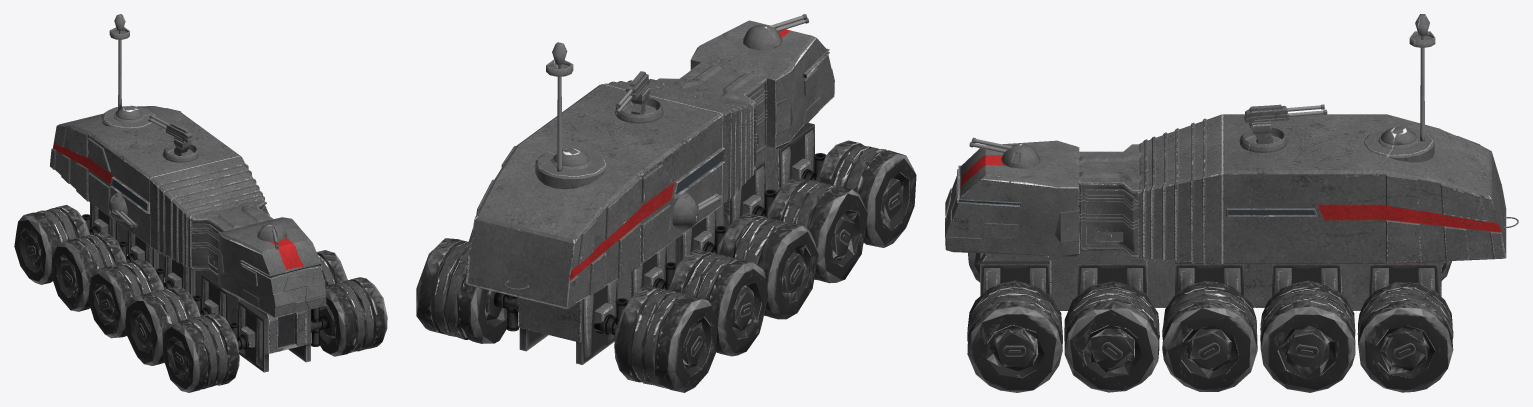
File: sw_juggernaut.glb
The picture shows the model from 3 angles, left to right: view 1: azimuth 30°, elevation 25°; view 2: azimuth 150°, elevation 25°; view 3: azimuth 270°, elevation 25°; orthographic projection. The views are drawn at different scales.
Visible parts, largest first — view 1: hull_mat_1, MainBody_MainBody_0, Cockpit_Cockpit_0, hull_mat_6, MiddleBase002_MiddleBase002_0, MiddleBase001_MiddleBase_0, Communication_Comminication_0, hull_mat_5, hull_mat_7, hull_mat_3, Communication002_Communication002_0, TurretBaseBig_TurretBigGun_0 (+3 smaller); view 2: hull_mat_1, MainBody_MainBody_0, Cockpit_Cockpit_0, hull_mat_6, MiddleBase001_MiddleBase_0, MiddleBase002_MiddleBase002_0, Communication_Comminication_0, hull_mat_7, hull_mat_5, hull_mat_3, Communication002_Communication002_0, TurretBaseBig_TurretBaseBig_0 (+3 smaller); view 3: MainBody_MainBody_0, hull_mat_1, Cockpit_Cockpit_0, hull_mat_6, MiddleBase001_MiddleBase_0, MiddleBase002_MiddleBase002_0, Communication_Comminication_0, hull_mat_2, TurretBaseBig_TurretBigGun_0, Communication002_Communication002_0, hull_mat_7, TurretBaseBig_TurretBaseBig_0 (+1 smaller).
Boxes of the visible parts, x1,y1,x2,y2 form: hull_mat_1: (14,205,387,392); MainBody_MainBody_0: (50,106,264,268); Cockpit_Cockpit_0: (217,217,326,317); hull_mat_6: (91,203,310,372); MiddleBase002_MiddleBase002_0: (189,199,273,276); MiddleBase001_MiddleBase_0: (90,202,306,353); Communication_Comminication_0: (102,105,155,128); hull_mat_5: (82,214,320,349); hull_mat_7: (108,192,287,241); hull_mat_3: (90,226,329,349); Communication002_Communication002_0: (109,14,129,109); TurretBaseBig_TurretBigGun_0: (166,123,192,155); hull_mat_1: (416,140,916,392); MainBody_MainBody_0: (465,79,753,308); Cockpit_Cockpit_0: (690,20,834,149); hull_mat_6: (519,123,814,364); MiddleBase001_MiddleBase_0: (518,147,779,342); MiddleBase002_MiddleBase002_0: (656,62,767,171); Communication_Comminication_0: (535,148,606,189); hull_mat_7: (672,24,782,230); hull_mat_5: (506,153,825,331); hull_mat_3: (493,169,815,334); Communication002_Communication002_0: (546,42,573,171); TurretBaseBig_TurretBaseBig_0: (615,98,663,123); MainBody_MainBody_0: (1138,114,1506,264); hull_mat_1: (967,252,1453,392); Cockpit_Cockpit_0: (945,140,1079,256); hull_mat_6: (980,261,1438,296); MiddleBase001_MiddleBase_0: (980,251,1445,310); MiddleBase002_MiddleBase002_0: (1079,144,1141,258); Communication_Comminication_0: (1364,127,1434,162); hull_mat_2: (1003,342,1415,360); TurretBaseBig_TurretBigGun_0: (1244,104,1288,144); Communication002_Communication002_0: (1409,14,1435,141); hull_mat_7: (1001,143,1040,168); TurretBaseBig_TurretBaseBig_0: (1239,127,1287,152).
Bounding box in the file's own units: 0.8919 × 1.06 × 1.73.
Materials: 17 (17 with a texture image).
